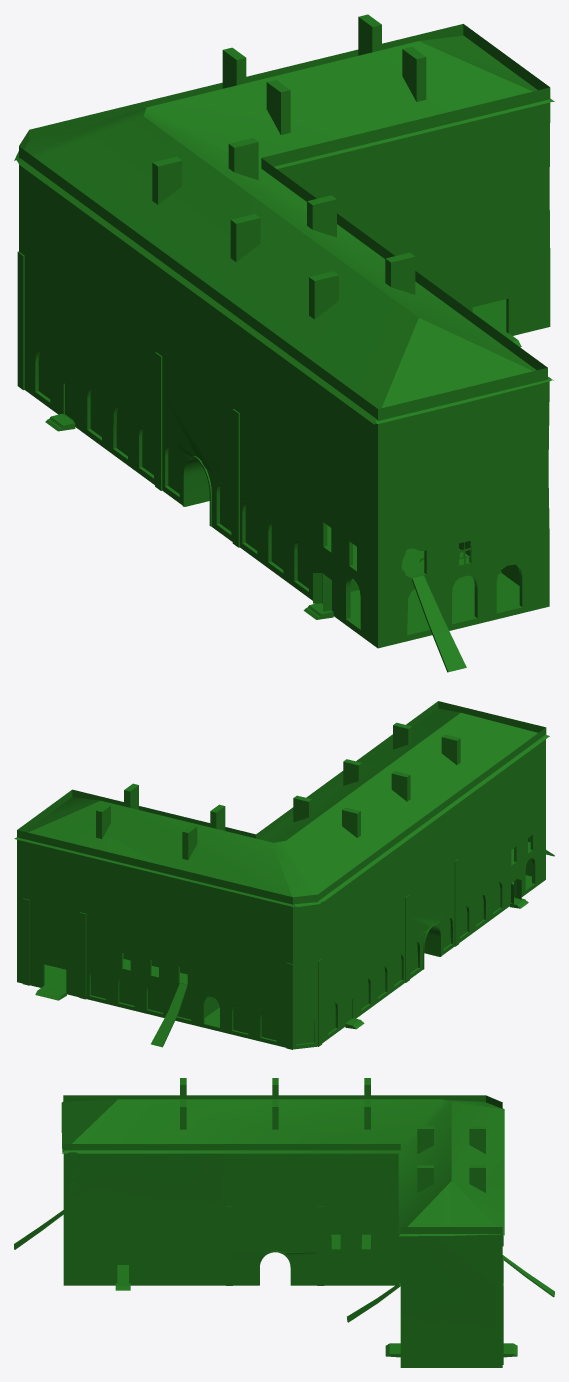
The model's file is Building_City_03_2Collision.FBX.
3 views of the same model, one above another, from view 1: azimuth 30°, elevation 25°; view 2: azimuth 150°, elevation 25°; view 3: azimuth 270°, elevation 25° (orthographic). The views are drawn at different scales.
Visible parts, largest first — view 1: Building_City_03_2Collision, Building_City_03_2Roof_Collision, Building_City_03_2Tube_Collision, Stairs_Wood_Collision; view 2: Building_City_03_2Collision, Building_City_03_2Roof_Collision, Building_City_03_2Tube_Collision, Stairs_Wood_Collision; view 3: Building_City_03_2Collision, Building_City_03_2Roof_Collision, Building_City_03_2Tube_Collision, Stairs_Metal_Collision.
Part boxes in pixels (x1,y1,x2,y2): Building_City_03_2Collision: (17,102,550,648); Building_City_03_2Roof_Collision: (14,24,554,424); Building_City_03_2Tube_Collision: (152,14,426,319); Stairs_Wood_Collision: (412,575,466,672); Building_City_03_2Collision: (17,739,545,1049); Building_City_03_2Roof_Collision: (14,701,549,907); Building_City_03_2Tube_Collision: (96,722,460,859); Stairs_Wood_Collision: (151,983,187,1047); Building_City_03_2Collision: (63,1152,517,1367); Building_City_03_2Roof_Collision: (61,1095,504,1236); Building_City_03_2Tube_Collision: (180,1078,485,1192); Stairs_Metal_Collision: (70,1151,75,1272).
Bounding box in the file's own units: 3722 × 6187 × 2156.
